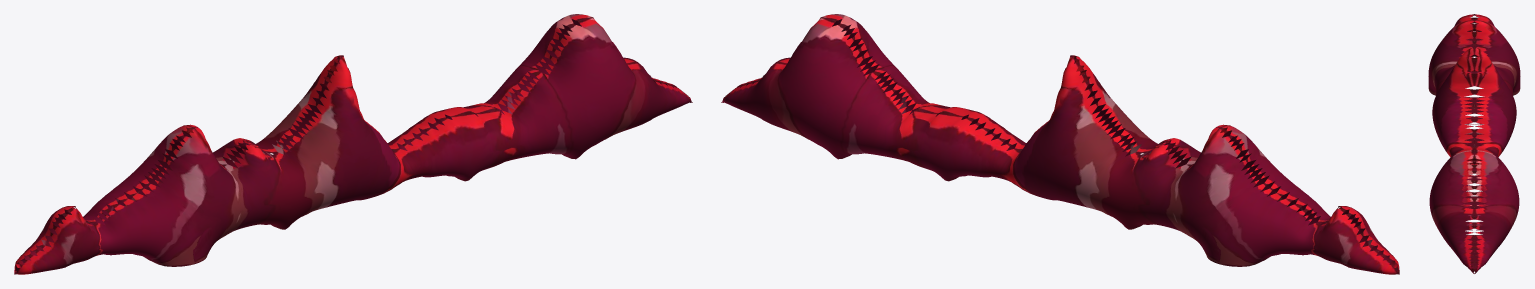
The model's file is foreground_ridge.glb.
The picture shows the model from 3 angles, left to right: view 1: azimuth 30°, elevation 25°; view 2: azimuth 150°, elevation 25°; view 3: azimuth 270°, elevation 25°; orthographic projection. The views are drawn at different scales.
Visible parts, largest first — view 1: foreground_ridge; view 2: foreground_ridge; view 3: foreground_ridge.
Boxes of the visible parts, x1=… form: foreground_ridge: x1=14, y1=14, x2=692, y2=274; foreground_ridge: x1=721, y1=14, x2=1399, y2=274; foreground_ridge: x1=1428, y1=14, x2=1520, y2=273.
Bounding box in the file's own units: 0.9886 × 0.1989 × 0.1552.
Materials: 1 (1 with a texture image).
